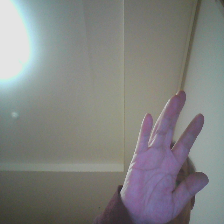hand: (126, 85, 214, 224)
